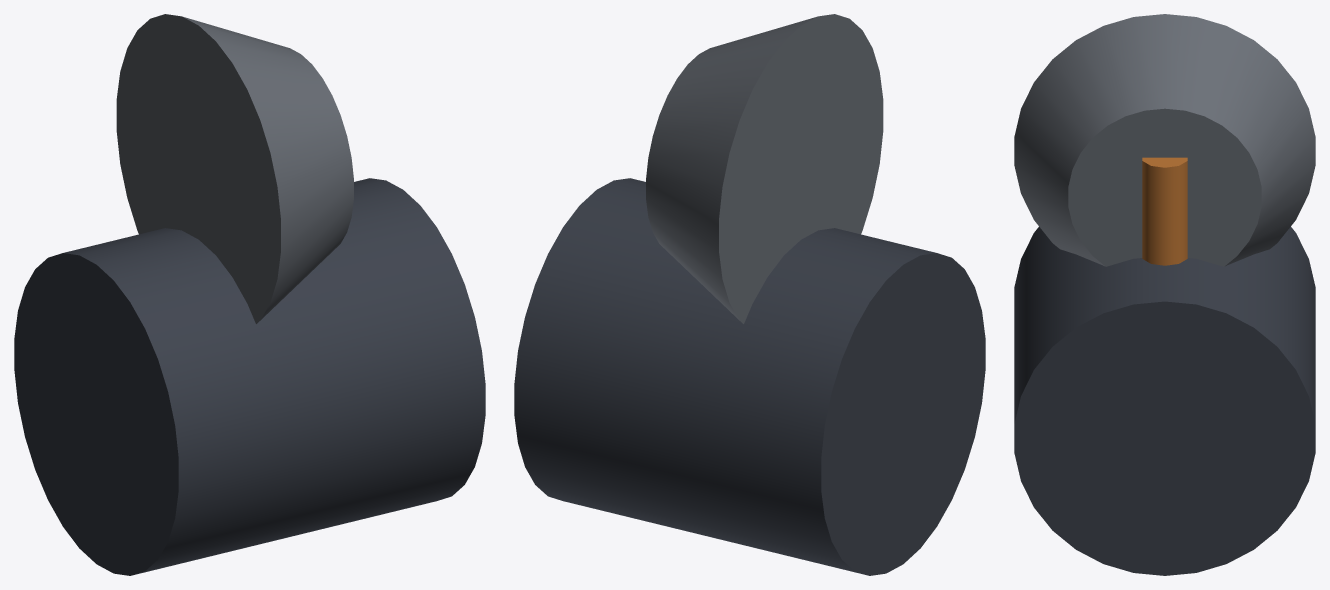
3 views of the same model, side by side, from view 1: azimuth 30°, elevation 25°; view 2: azimuth 150°, elevation 25°; view 3: azimuth 270°, elevation 25° (orthographic). The views are drawn at different scales.
Visible parts, largest first — view 1: Motor de arranque; view 2: Motor de arranque; view 3: Motor de arranque.
Boxes of the visible parts, box(x1,y1,x2,y2) form: Motor de arranque: box(14, 14, 485, 575); Motor de arranque: box(514, 14, 985, 575); Motor de arranque: box(1014, 14, 1315, 575).
Bounding box in the file's own units: 0.625 × 1 × 0.5801.
